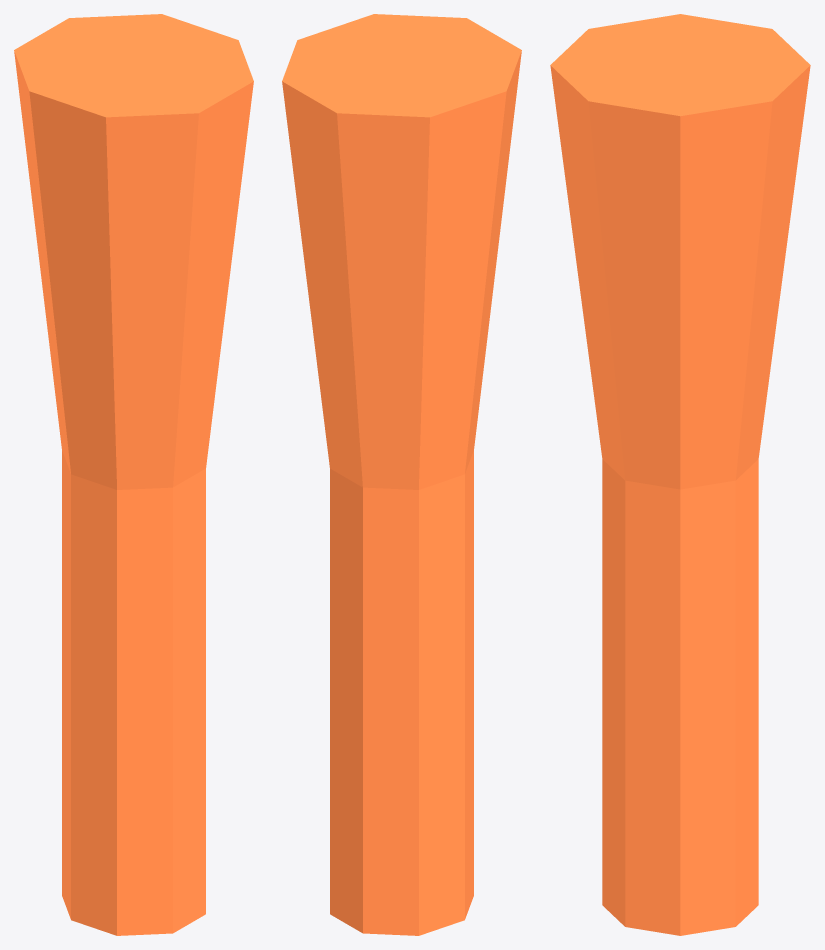
Rendered from Bullshit.fbx.
The picture shows the model from 3 angles, left to right: view 1: azimuth 30°, elevation 25°; view 2: azimuth 150°, elevation 25°; view 3: azimuth 270°, elevation 25°; orthographic projection.
Visible parts, largest first — view 1: Cylinder; view 2: Cylinder; view 3: Cylinder.
Part boxes in pixels (x1,y1,x2,y2): Cylinder: (14, 14, 253, 935); Cylinder: (282, 14, 521, 935); Cylinder: (550, 14, 810, 935).
Bounding box in the file's own units: 98.23 × 376 × 106.
